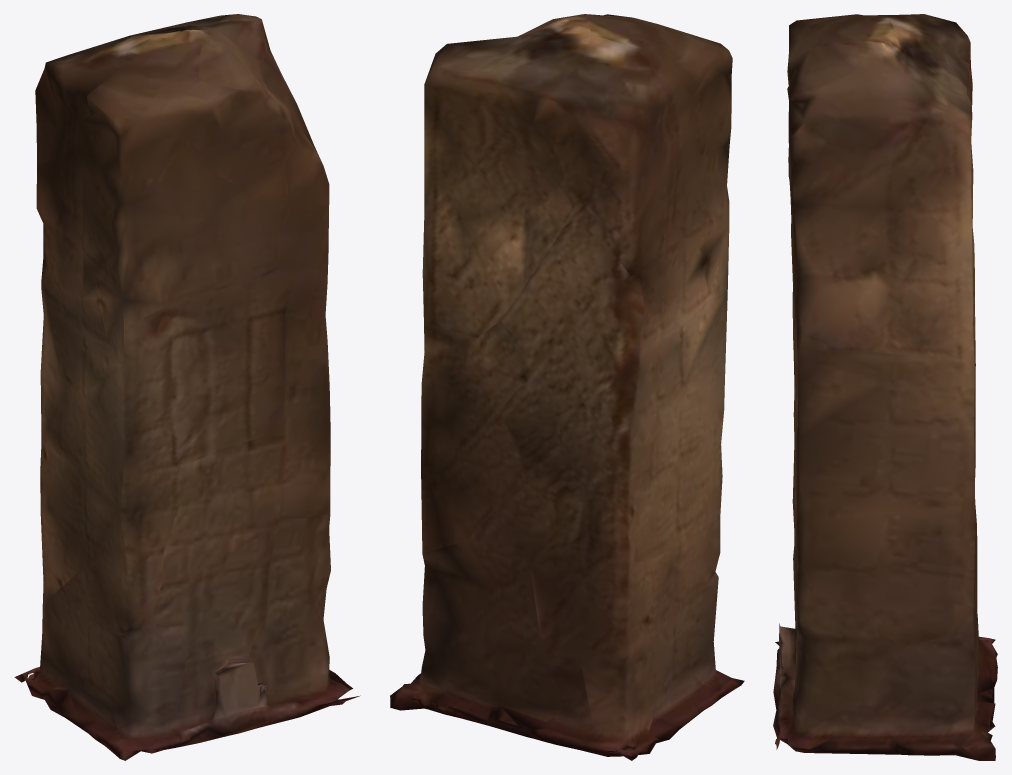
The model's file is stela-copan.lod1.glb.
3 views of the same model, side by side, from view 1: azimuth 30°, elevation 25°; view 2: azimuth 150°, elevation 25°; view 3: azimuth 270°, elevation 25° (orthographic). The views are drawn at different scales.
Visible parts, largest first — view 1: Object_2; view 2: Object_2; view 3: Object_2.
Boxes of the visible parts, <box> form: Object_2: <box>14,14,360,760</box>; Object_2: <box>390,14,744,760</box>; Object_2: <box>773,14,997,760</box>.
Bounding box in the file's own units: 1.52 × 4 × 1.23.
1 material, 1 textured.
